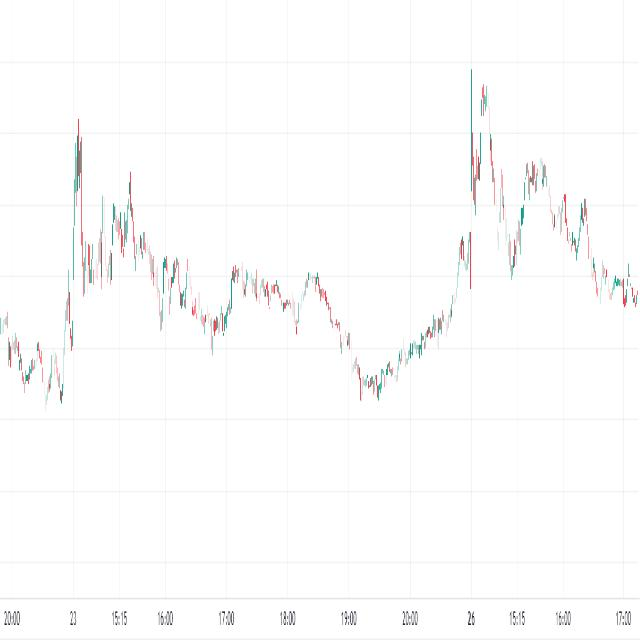Rounding-Bottom: (329, 311, 431, 410), (188, 256, 234, 353)
Triangle: (445, 33, 624, 313)
